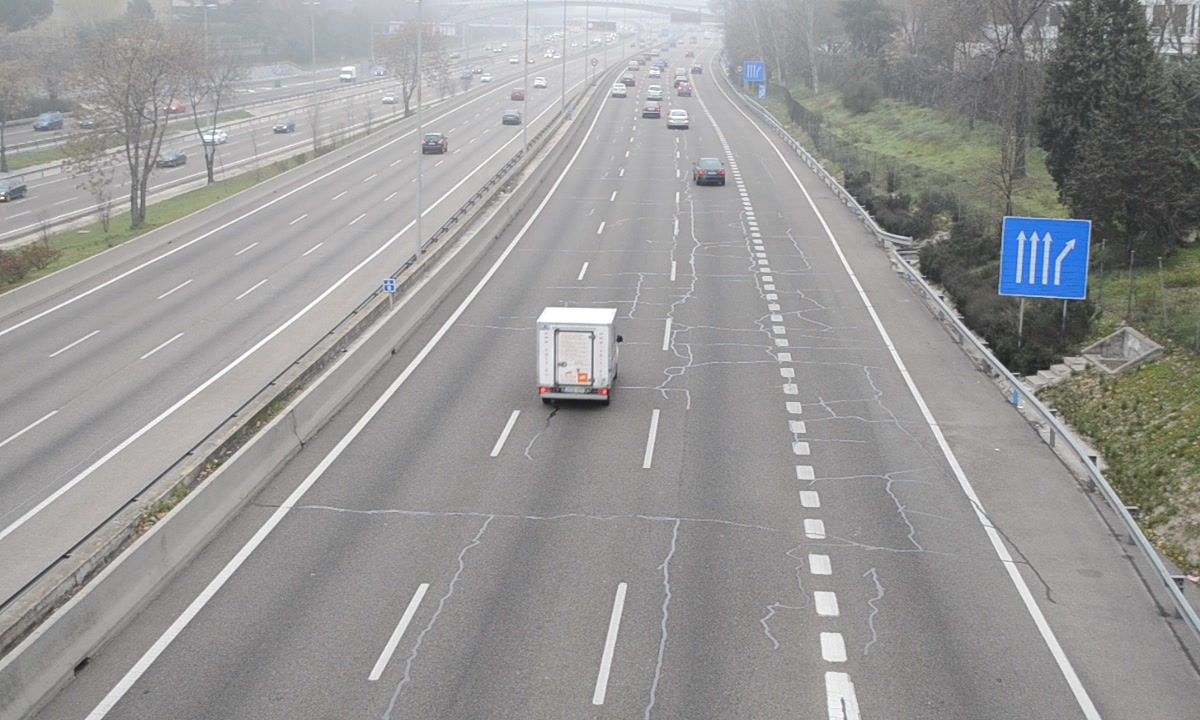car: (692, 155, 728, 188)
small-truck: (538, 307, 622, 401)
